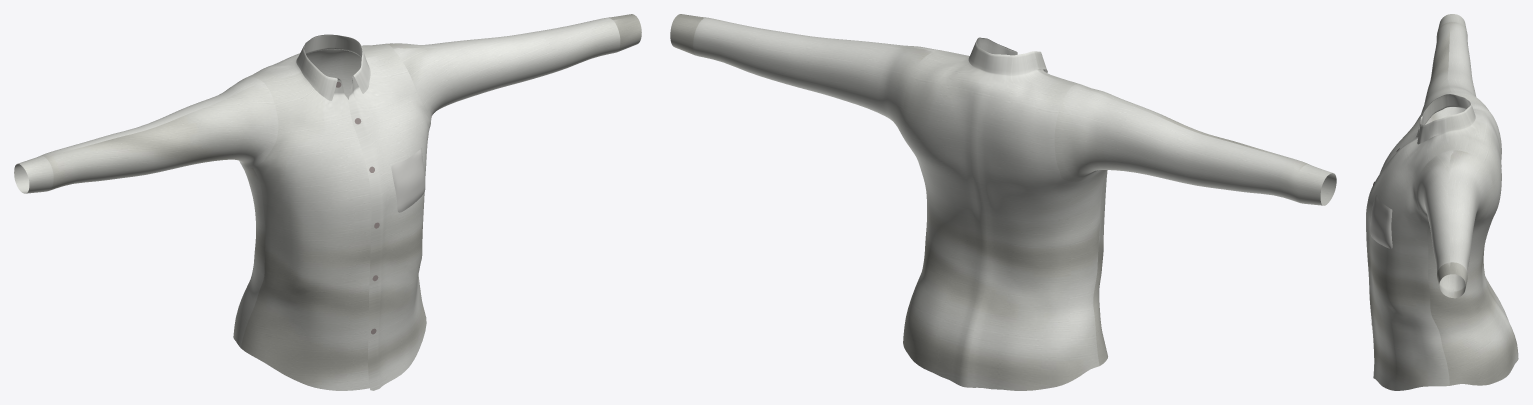
File: Huku04.fbx
3 renders of one model, left to right at view 1: azimuth 30°, elevation 25°; view 2: azimuth 150°, elevation 25°; view 3: azimuth 270°, elevation 25°, orthographic. The views are drawn at different scales.
Visible parts, largest first — view 1: Huku04; view 2: Huku04; view 3: Huku04.
Part boxes in pixels (x1,y1,x2,y2): Huku04: (14,14,641,390); Huku04: (670,14,1336,390); Huku04: (1366,14,1518,390).
Size of the model in its own units: 120 by 58.54 by 29.79.
